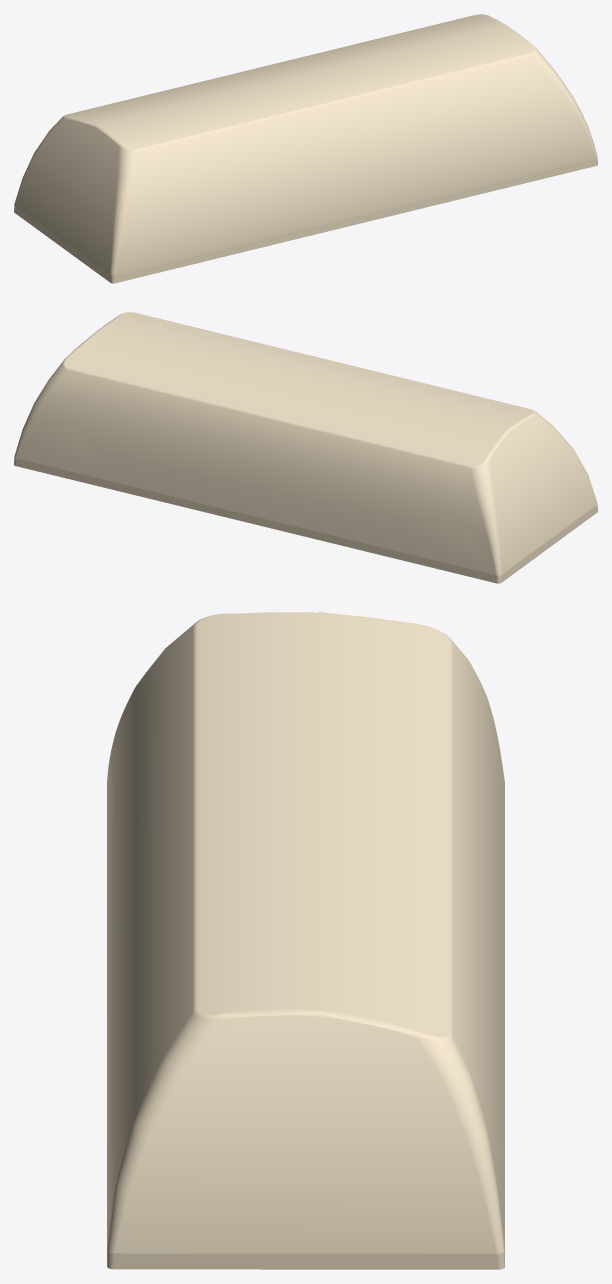
Rendered from KAT_2_75u_r5_convex.glb.
3 renders of one model, top to bottom at view 1: azimuth 30°, elevation 25°; view 2: azimuth 150°, elevation 25°; view 3: azimuth 270°, elevation 25°, orthographic. The views are drawn at different scales.
Parts seen in each view (by area): view 1: Object.351; view 2: Object.351; view 3: Object.351.
Part boxes in pixels (left/top/right/bottom): Object.351: left=14, top=14, right=597, bottom=283; Object.351: left=14, top=312, right=597, bottom=583; Object.351: left=107, top=612, right=504, bottom=1269.
Size of the model in its own units: 51.45 by 11.19 by 18.2.
